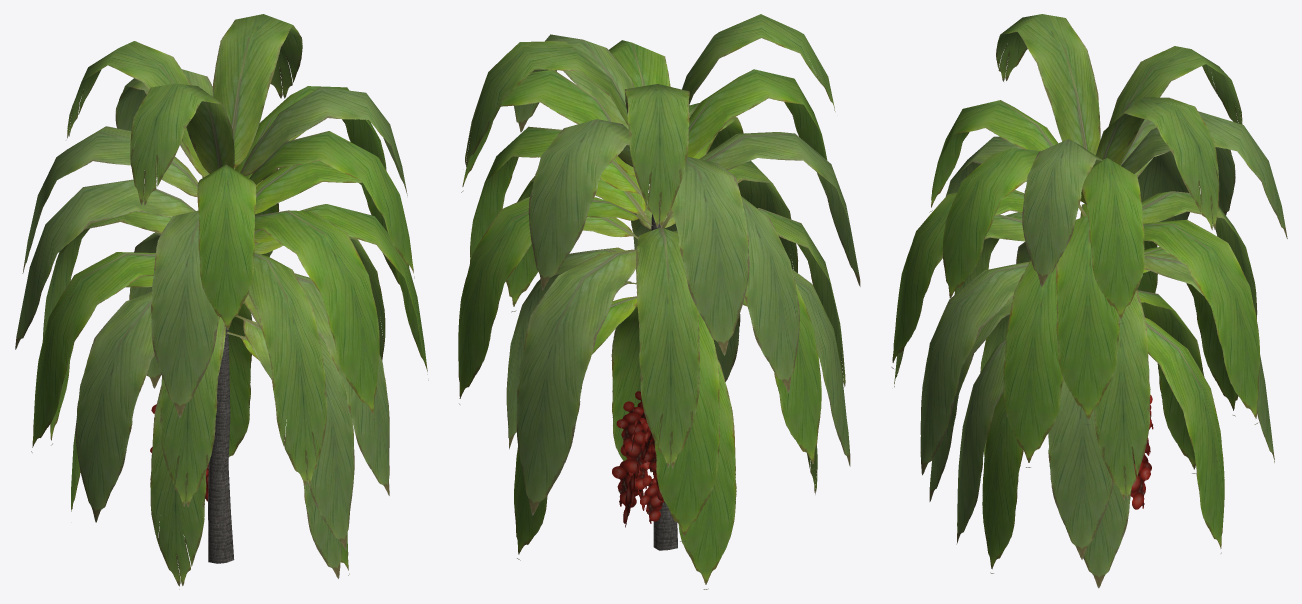
File: Cordyline_Petiolaris_Spring_Young.glb
3 renders of one model, left to right at view 1: azimuth 30°, elevation 25°; view 2: azimuth 150°, elevation 25°; view 3: azimuth 270°, elevation 25°, orthographic. The views are drawn at different scales.
Parts seen in each view (by area): view 1: Cordyline_Petiolaris_Spring_Young__LOD3; view 2: Cordyline_Petiolaris_Spring_Young__LOD3; view 3: Cordyline_Petiolaris_Spring_Young__LOD3.
Boxes of the visible parts, <box> form: Cordyline_Petiolaris_Spring_Young__LOD3: <box>15,14,428,589</box>; Cordyline_Petiolaris_Spring_Young__LOD3: <box>458,14,860,589</box>; Cordyline_Petiolaris_Spring_Young__LOD3: <box>891,14,1287,588</box>.
Size of the model in its own units: 1.37 by 1.89 by 1.38.
3 materials, 3 textured.
